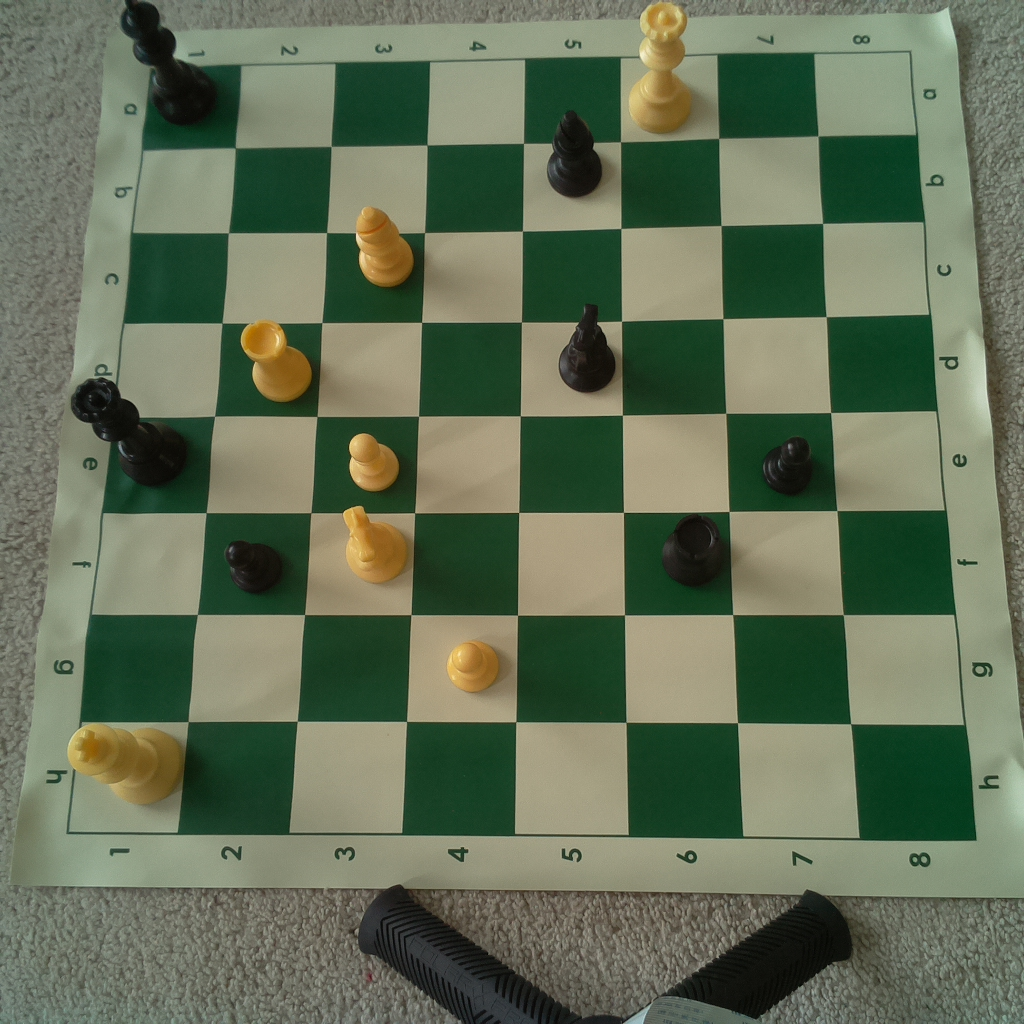black_bishop: (544, 105, 606, 204)
black_king: (117, 1, 223, 123)
black_knight: (554, 300, 616, 393)
black_pawn: (758, 422, 820, 500), (224, 536, 285, 595)
black_queen: (66, 370, 190, 487)
black_rook: (657, 510, 731, 588)
file_a: (140, 49, 915, 149)
file_b: (131, 135, 925, 232)
file_c: (121, 221, 929, 323)
file_d: (112, 315, 938, 419)
file_e: (101, 412, 945, 513)
file_f: (90, 512, 957, 618)
file_g: (77, 618, 963, 725)
file_h: (67, 723, 977, 840)
outline: (64, 51, 977, 838)
rank_1: (67, 66, 241, 833)
rank_2: (176, 61, 336, 836)
rank_3: (289, 61, 433, 834)
rank_4: (402, 62, 527, 836)
rank_5: (515, 61, 632, 834)
rank_6: (620, 56, 745, 838)
rank_7: (718, 57, 862, 839)
rank_8: (814, 53, 979, 840)
white_bishop: (353, 200, 414, 288)
white_king: (64, 713, 184, 805)
white_knight: (337, 501, 412, 587)
white_pawn: (440, 635, 507, 699), (340, 428, 405, 492)
white_queen: (624, 1, 701, 136)
white_rook: (236, 313, 314, 405)
